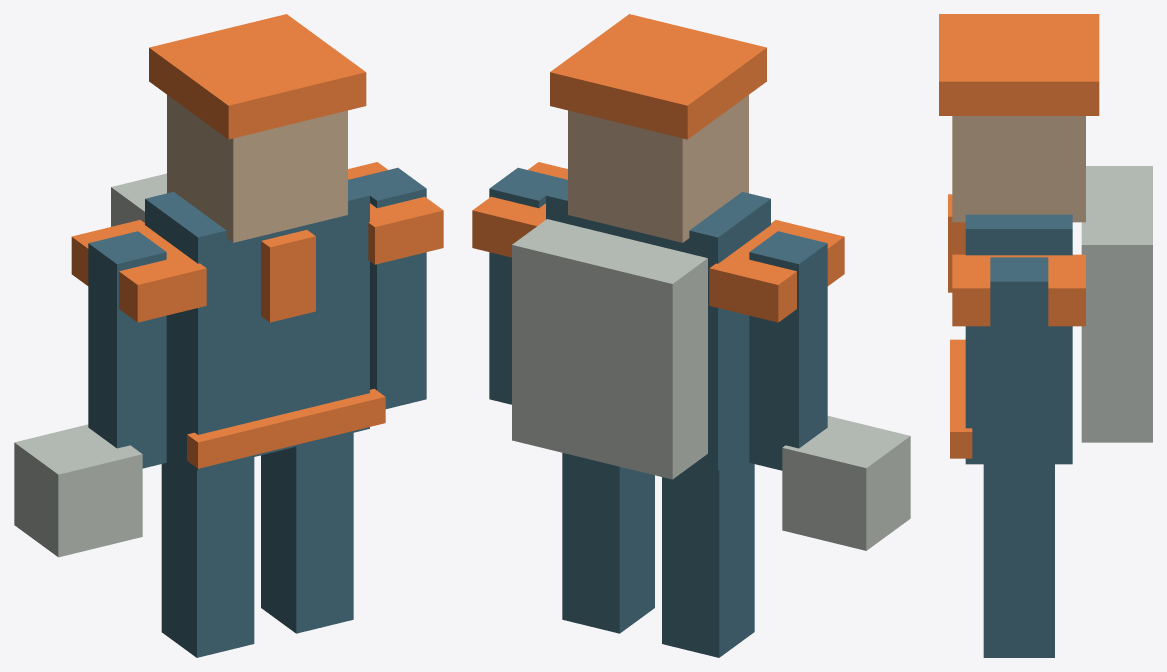
The model's file is 10_ren_trenchmark_pilgrim_under_outer.glb.
3 renders of one model, left to right at view 1: azimuth 30°, elevation 25°; view 2: azimuth 150°, elevation 25°; view 3: azimuth 270°, elevation 25°, orthographic.
Parts seen in each view (by area): view 1: Ren Trenchmark, Pilgrim under Outer; view 2: Ren Trenchmark, Pilgrim under Outer; view 3: Ren Trenchmark, Pilgrim under Outer.
Part boxes in pixels (box(x1,y1,x2,y2)): Ren Trenchmark, Pilgrim under Outer: box(14, 14, 443, 657); Ren Trenchmark, Pilgrim under Outer: box(472, 14, 910, 657); Ren Trenchmark, Pilgrim under Outer: box(939, 14, 1152, 657).
Bounding box in the file's own units: 1.07 × 1.53 × 0.5175.
